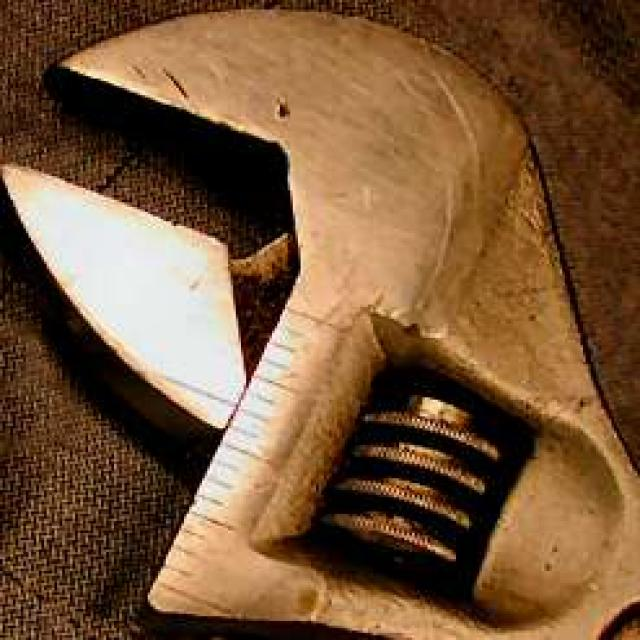wrench: (8, 10, 640, 640)
